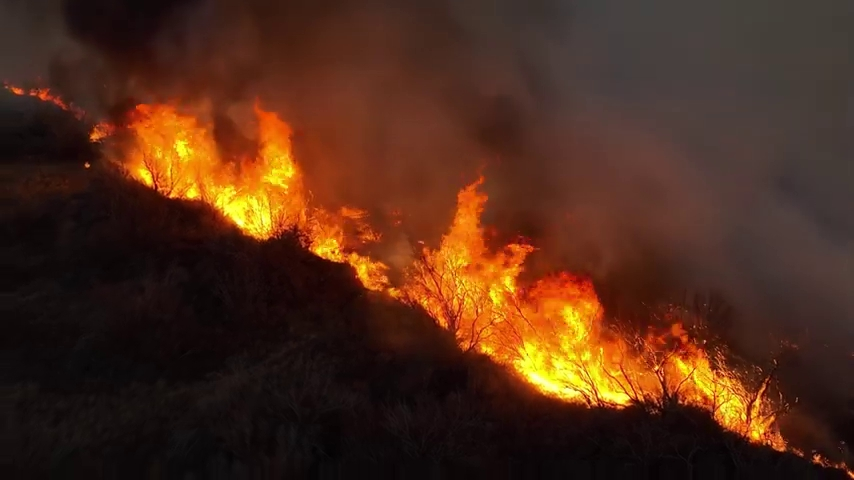forest_fire: (114, 102, 808, 455), (6, 84, 82, 117), (90, 122, 117, 140), (813, 455, 843, 467), (849, 471, 853, 474)
